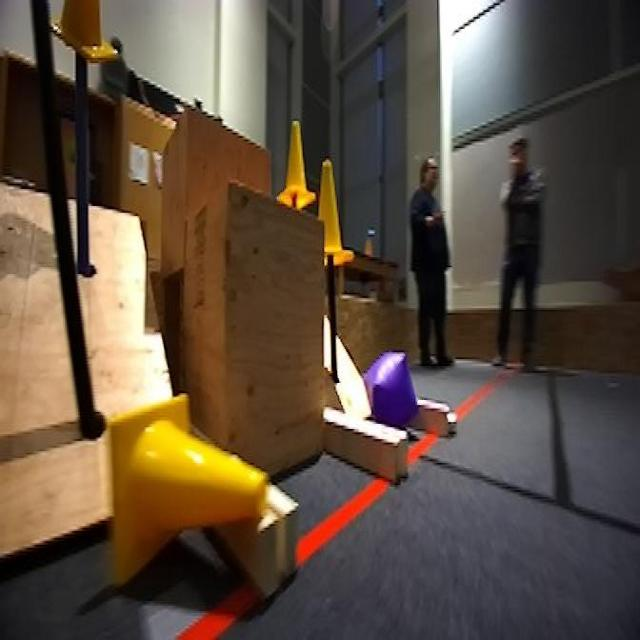frc_cone: (104, 392, 269, 576), (44, 0, 120, 65), (310, 160, 348, 274), (280, 124, 311, 210)
frc_cube: (367, 349, 417, 429)
